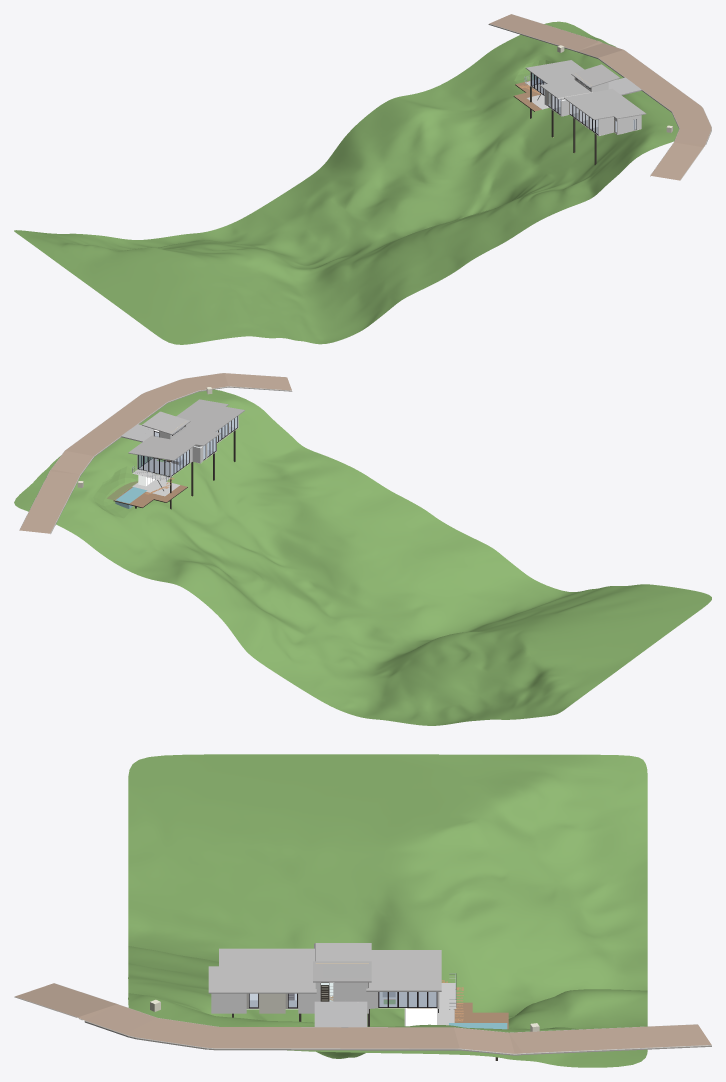
Rendered from casa_ili.glb.
The picture shows the model from 3 angles, top to bottom: view 1: azimuth 30°, elevation 25°; view 2: azimuth 150°, elevation 25°; view 3: azimuth 270°, elevation 25°; orthographic projection. The views are drawn at different scales.
Visible parts, largest first — view 1: TERRAIN_Grass, HOUSE_Complete_Geometry; view 2: TERRAIN_Grass, HOUSE_Complete_Geometry; view 3: TERRAIN_Grass, HOUSE_Complete_Geometry.
Part boxes in pixels (<box>): TERRAIN_Grass: <box>14,21,678,344</box>; HOUSE_Complete_Geometry: <box>488,14,711,180</box>; TERRAIN_Grass: <box>14,389,711,725</box>; HOUSE_Complete_Geometry: <box>19,373,292,533</box>; TERRAIN_Grass: <box>128,754,647,1067</box>; HOUSE_Complete_Geometry: <box>14,943,711,1060</box>.
Size of the model in its own units: 118 by 31.88 by 80.5.
